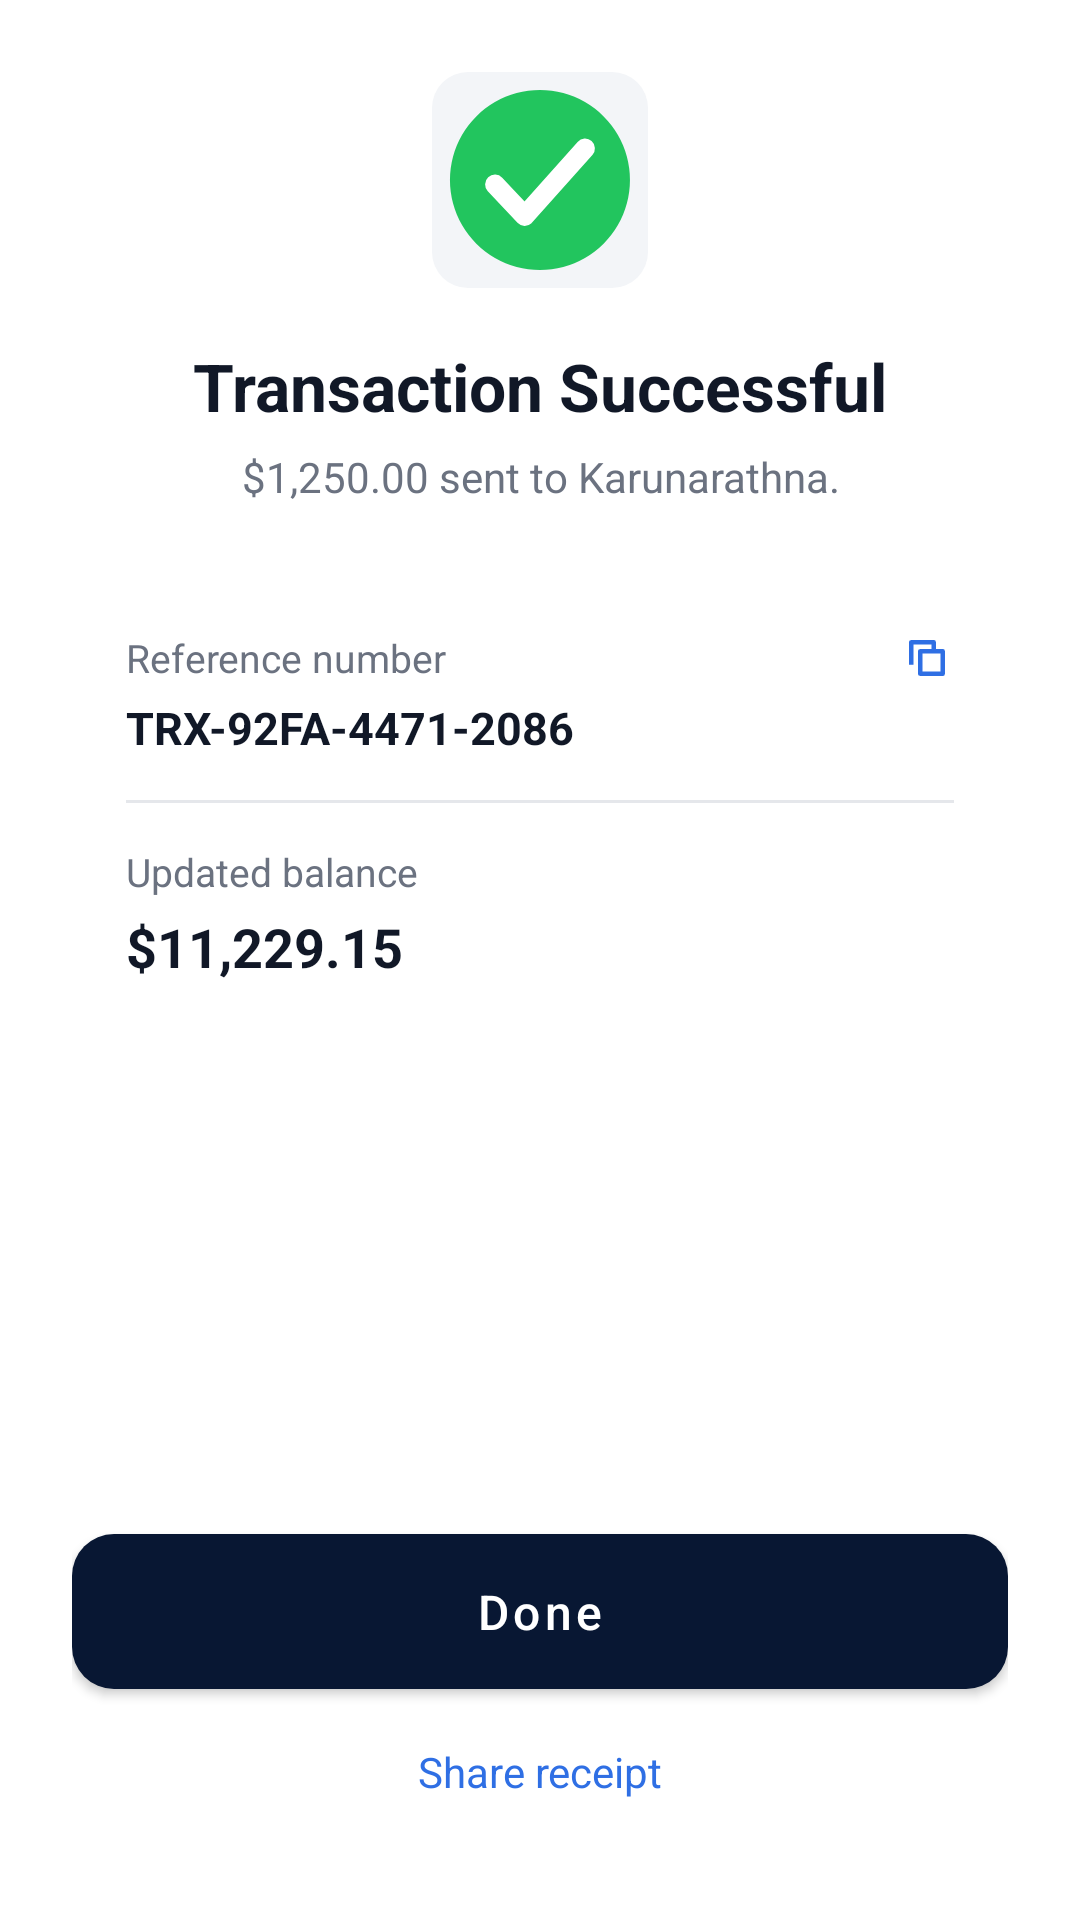

Named icons in this screenshot (1080w x 1920h) and their bounding boxes, detection(x1, y1, x2, y2):
check: detection(450, 90, 630, 270)
